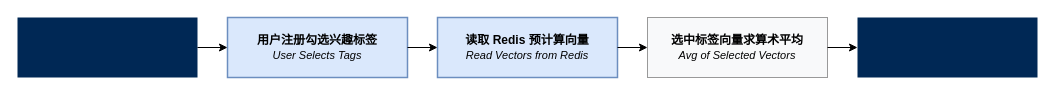
This 1054x96 diagram has some shape labels left out. Here are the shapes that lost their labels. From the top down, the centre of each, then its label:
At (x=107, y=47): "开始：获取标签列表 Start: Fetch Tags".
At (x=947, y=47): "结束：写入 Milvus End: Insert to Milvus".
